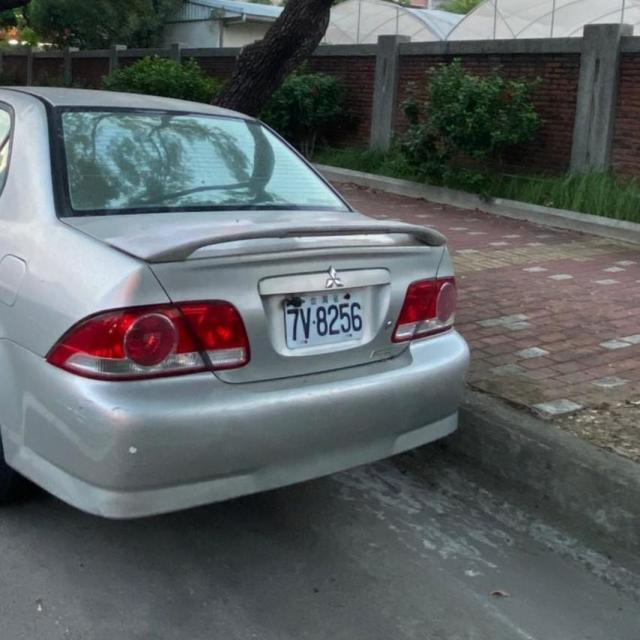W: (278, 290, 372, 351)
